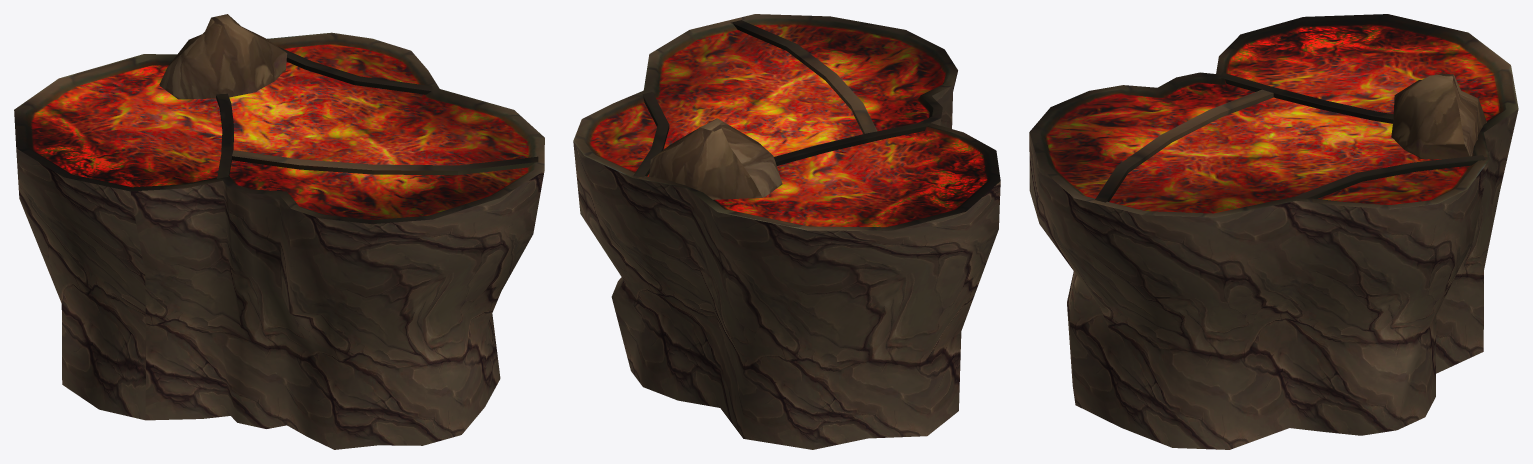
File: Battle02_Pools_02.FBX
3 renders of one model, left to right at view 1: azimuth 30°, elevation 25°; view 2: azimuth 150°, elevation 25°; view 3: azimuth 270°, elevation 25°, orthographic. The views are drawn at different scales.
Parts seen in each view (by area): view 1: Battle02_Pools_02_02, Battle02_Pools_02_01, Battle02_Pools_02_03; view 2: Battle02_Pools_02_02, Battle02_Pools_02_01, Battle02_Pools_02_03; view 3: Battle02_Pools_02_02, Battle02_Pools_02_01, Battle02_Pools_02_03.
Boxes of the visible parts, <box> form: Battle02_Pools_02_02: <box>16,105,544,449</box>; Battle02_Pools_02_01: <box>14,32,544,224</box>; Battle02_Pools_02_03: <box>159,14,287,99</box>; Battle02_Pools_02_02: <box>573,60,1000,449</box>; Battle02_Pools_02_01: <box>573,14,1000,231</box>; Battle02_Pools_02_03: <box>649,118,782,199</box>; Battle02_Pools_02_02: <box>1029,109,1518,449</box>; Battle02_Pools_02_01: <box>1029,14,1518,217</box>; Battle02_Pools_02_03: <box>1391,73,1486,159</box>.
Bounding box in the file's own units: 16.69 × 11.54 × 16.94.
